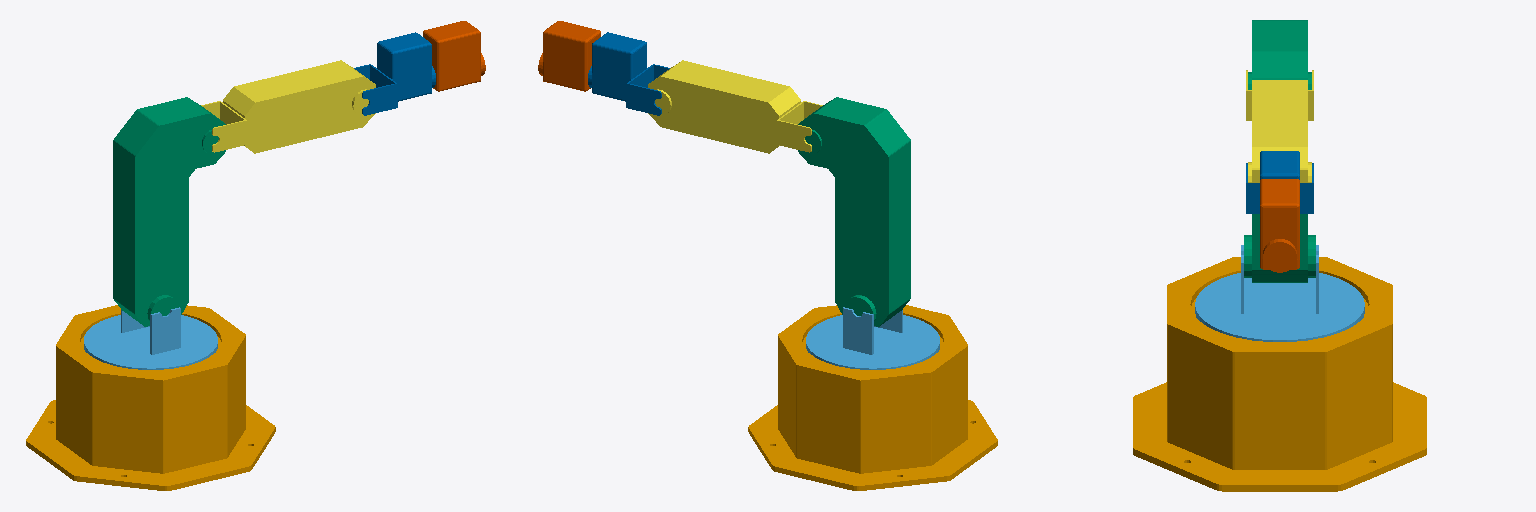
robot.urdf — widowx:
<?xml version="1.0" encoding="UTF-8"?>
<robot name="widowx">
  <!-- links -->
  <link name="arm_base_link">
     <visual>
        <origin xyz="0 0 0" rpy="0 0 0" />
        <geometry>
           <mesh filename="package://widowx_arm_description/meshes/base_link.stl"/>
        </geometry>
     </visual>
     <collision>
        <origin xyz="0 0 0" rpy="0 0 0" />
        <geometry>
           <mesh filename="package://widowx_arm_description/meshes/base_link.stl"/>
        </geometry>
     </collision>
     <inertial>
        <origin xyz="0 0 0" rpy="0 0 0" />
        <mass value="100" />
        <inertia ixx="1.0" ixy="0.0" ixz="0.0" iyy="1.0" iyz="0.0" izz="1.0" />
     </inertial>
  </link>
  <link name="shoulder_link">
     <visual>
        <origin xyz="0 0 0" rpy="0 0 0" />
        <geometry>
           <mesh filename="package://widowx_arm_description/meshes/shoulder_link.stl" />
        </geometry>
     </visual>
     <collision>
        <origin xyz="0 0 0" rpy="0 0 0" />
        <geometry>
           <mesh filename="package://widowx_arm_description/meshes/shoulder_link.stl"/>
        </geometry>
     </collision>
     <inertial>
        <origin xyz="0 0 0" rpy="0 0 0" />
        <mass value="1" />
        <inertia ixx="1.0" ixy="0.0" ixz="0.0" iyy="1.0" iyz="0.0" izz="1.0" />
     </inertial>
  </link>
  <link name="biceps_link">
     <visual>
        <origin xyz="0 0 0" rpy="0 0 0" />
        <geometry>
           <mesh filename="package://widowx_arm_description/meshes/biceps_link.new.stl" />
        </geometry>
     </visual>
     <collision>
        <origin xyz="0 0 0" rpy="0 0 0" />
        <geometry>
           <mesh filename="package://widowx_arm_description/meshes/biceps_link.new.stl" />
        </geometry>
     </collision>
     <inertial>
        <origin xyz="0 0 0" rpy="0 0 0" />
        <mass value="1" />
        <inertia ixx="1.0" ixy="0.0" ixz="0.0" iyy="1.0" iyz="0.0" izz="1.0" />
     </inertial>
  </link>
  <link name="forearm_link">
     <visual>
        <origin xyz="0 0 0" rpy="0 0 0" />
        <geometry>
           <mesh filename="package://widowx_arm_description/meshes/forearm_link.new.stl"/>
        </geometry>
     </visual>
     <collision>
        <origin xyz="0 0 0" rpy="0 0 0" />
        <geometry>
           <mesh filename="package://widowx_arm_description/meshes/forearm_link.new.stl"/>
        </geometry>
     </collision>
     <inertial>
        <origin xyz="0 0 0" rpy="0 0 0" />
        <mass value="1" />
        <inertia ixx="1.0" ixy="0.0" ixz="0.0" iyy="1.0" iyz="0.0" izz="1.0"/>
     </inertial>
  </link>
  <link name="wrist_1_link">
     <visual>
        <origin xyz="0 0 0" rpy="0 0 0" />
        <geometry>
           <mesh filename="package://widowx_arm_description/meshes/wrist_1_link.stl"/>
        </geometry>
     </visual>
     <collision>
        <origin xyz="0 0 0" rpy="0 0 0" />
        <geometry>
           <mesh filename="package://widowx_arm_description/meshes/wrist_1_link.stl"/>
        </geometry>
     </collision>
     <inertial>
        <origin xyz="0 0 0" rpy="0 0 0" />
        <mass value="1" />
        <inertia ixx="1.0" ixy="0.0" ixz="0.0" iyy="1.0" iyz="0.0" izz="1.0" />
     </inertial>
  </link>
  <link name="wrist_2_link">
     <visual>
        <origin xyz="0 0 0" rpy="0 0 0" />
        <geometry>
           <mesh filename="package://widowx_arm_description/meshes/wrist_2_link.new.stl"/>
        </geometry>
     </visual>
     <collision>
        <origin xyz="0 0 0" rpy="0 0 0" />
        <geometry>
           <mesh filename="package://widowx_arm_description/meshes/wrist_2_link.new.stl"/>
        </geometry>
     </collision>
     <inertial>
        <origin xyz="0 0 0" rpy="0 0 0" />
        <mass value="1" />
        <inertia ixx="1.0" ixy="0.0" ixz="0.0" iyy="1.0" iyz="0.0" izz="1.0" />
     </inertial>
  </link>
  <!--link name="gripper_rail_link">
     <visual>
        <origin xyz="0 0 0" rpy="0 0 1.57" />
        <geometry>
           <mesh filename="package://widowx_arm_description/meshes/gripper_rail_link.stl"/>
        </geometry>
     </visual>
     <collision>
        <origin xyz="0 0 0" rpy="0 0 0" />
        <geometry>
           <mesh filename="package://widowx_arm_description/meshes/gripper_rail_link.stl"/>
        </geometry>
     </collision>
     <inertial>
        <origin xyz="0 0 0" rpy="0 0 0" />
        <mass value="1" />
        <inertia ixx="1.0" ixy="0.0" ixz="0.0" iyy="1.0" iyz="0.0" izz="1.0" />
     </inertial>
  </link-->
  <!--link name="gripper_aux_link">
  </link-->
  <!--link name="gripper_1_link">
     <visual>
        <origin xyz="0 -0.0007 0" rpy="0 0 1.57" />
        <geometry>
           <mesh filename="package://widowx_arm_description/meshes/gripper_hand_fixed_link.stl"/>
        </geometry>
     </visual>
     <collision>
        <origin xyz="0 0 0" rpy="0 0 0" />
        <geometry>
           <mesh filename="package://widowx_arm_description/meshes/gripper_hand_fixed_link.stl"/>
        </geometry>
     </collision>
     <inertial>
        <origin xyz="0 0 0" rpy="0 0 0" />
        <mass value="1" />
        <inertia ixx="1.0" ixy="0.0" ixz="0.0" iyy="1.0" iyz="0.0" izz="1.0" />
     </inertial>
  </link>
  <link name="gripper_2_link">
     <visual>
        <origin xyz="0 0.0007 0" rpy="0 0 -1.57" />
        <geometry>
           <mesh filename="package://widowx_arm_description/meshes/gripper_hand_fixed_link.stl"/>
        </geometry>
     </visual>
     <collision>
        <origin xyz="0 0 0" rpy="0 0 0" />
        <geometry>
           <mesh filename="package://widowx_arm_description/meshes/gripper_hand_fixed_link.stl"/>
        </geometry>
     </collision>
     <inertial>
        <origin xyz="0 0 0" rpy="0 0 0" />
        <mass value="1" />
        <inertia ixx="1.0" ixy="0.0" ixz="0.0" iyy="1.0" iyz="0.0" izz="1.0" />
     </inertial>
  </link-->
  <!-- joints -->
  <!--joint name="arm_base_joint" type="fixed">
     <parent link="origin" />
     <child link="arm_base_link"/>
  </joint -->
  <joint name="joint_1" type="revolute">
     <origin xyz="0 0 0.125" rpy="0 0 0" />
     <parent link="arm_base_link" />
     <child link="shoulder_link" />
     <axis xyz="0 0 1" />
     <limit lower="-2.617" upper="2.617" effort="6" velocity="0.785" />
  </joint>
  <joint name="joint_2" type="revolute">
     <!--origin xyz="0.04825 0 0.14203" rpy="0 0 0" /-->
     <origin xyz="0 0 0" rpy="0 0 0" />
     <parent link="shoulder_link" />
     <child link="biceps_link" />
     <axis xyz="0 1 0" />
     <limit lower="-1.571" upper="1.571" effort="6" velocity="1.571" />
  </joint>
  <joint name="joint_3" type="revolute">
     <origin xyz="0.04825 0 0.14203" rpy="0 1.570795 0" />
     <parent link="biceps_link" />
     <child link="forearm_link" />
     <axis xyz="0 1 0" />
     <limit lower="-1.571" upper="1.571" effort="6" velocity="1.571" />
  </joint>
  <joint name="joint_4" type="revolute">
     <origin xyz="0 0 0.14203" rpy="0 0 0" />
     <parent link="forearm_link" />
     <child link="wrist_1_link" />
     <axis xyz="0 1 0" />
     <limit lower="-1.745" upper="1.745" effort="6" velocity="1.571" />
  </joint>
  <joint name="joint_5" type="revolute">
     <origin xyz="0 0 0.0715" rpy="0 0 0" />
     <parent link="wrist_1_link" />
     <child link="wrist_2_link" />
     <axis xyz="0 0 1" />
     <limit lower="-2.617" upper="2.617" effort="6" velocity="1.571" />
  </joint>
  <!--joint name="joint_6" type="fixed">
     <origin xyz = "0 0 0.043" rpy="0 0 0" />
     <parent link="wrist_2_link" />
     <child link="gripper_rail_link" />
     <axis xyz="0 0 1" />
     <limit lower="-0.31" upper="0.1" effort="6" velocity="0.5" />
  </joint-->
  <!--joint name="gripper_revolute_joint" type="revolute">
     <origin xyz = "0 0 0.065" rpy="0 0 0" />
     <parent link="wrist_2_link" />
     <child link="gripper_aux_link" />
     <axis xyz="0 0 1" />
     <limit lower="-2.6" upper="2.6" effort="6" velocity="0.5" />
  </joint-->
  <!--joint name="gripper_prismatic_joint_1" type="prismatic">
     <origin xyz="0 0 0" rpy="0 0 0" />
     <parent link="gripper_rail_link" />
     <child link="gripper_1_link" />
     <axis xyz="0 -1 0" />
     <limit lower="0" upper="0.027" effort="6" velocity="0.5" />
  </joint>
  <joint name="gripper_prismatic_joint_2" type="prismatic">
     <origin xyz="0 0 0" rpy="0 0 0" />
     <parent link="gripper_rail_link" />
     <child link="gripper_2_link" />
     <mimic joint="gripper_prismatic_joint_1" />
     <axis xyz="0 1 0" />
     <limit lower="0" upper="0.027" effort="6" velocity="0.5" />
  </joint-->

  <!--link name="gripper_link"/>
    <joint name="gripper_link_joint" type="revolute">
      <origin xyz="0 0 0.110" rpy="0 0 0"/>
      <parent link="package://widowx_arm_description/meshes/wrist_1_link" />
      <child link="gripper_link"/>
      <limit effort="6" velocity="1" lower="-3.14" upper="3.14"/>
      <axis xyz="1 0 0"/>
    </joint-->

  <transmission name="tran1">
    <type>transmission_interface/SimpleTransmission</type>
    <joint name="joint_1"/>
    <actuator name="motor1">
      <hardwareInterface>EffortJointInterface</hardwareInterface>
      <mechanicalReduction>1</mechanicalReduction>
    </actuator>
  </transmission>

 <transmission name="tran2">
    <type>transmission_interface/SimpleTransmission</type>
    <joint name="joint_2"/>
    <actuator name="motor2">
      <hardwareInterface>EffortJointInterface</hardwareInterface>
      <mechanicalReduction>1</mechanicalReduction>
    </actuator>
  </transmission>

 <transmission name="tran3">
    <type>transmission_interface/SimpleTransmission</type>
    <joint name="joint_3"/>
    <actuator name="motor3">
      <hardwareInterface>EffortJointInterface</hardwareInterface>
      <mechanicalReduction>1</mechanicalReduction>
    </actuator>
  </transmission>

 <transmission name="tran4">
    <type>transmission_interface/SimpleTransmission</type>
    <joint name="joint_4"/>
    <actuator name="motor4">
      <hardwareInterface>EffortJointInterface</hardwareInterface>
      <mechanicalReduction>1</mechanicalReduction>
    </actuator>
  </transmission>

 <transmission name="tran5">
    <type>transmission_interface/SimpleTransmission</type>
    <joint name="joint_6"/>
    <actuator name="motor5">
      <hardwareInterface>EffortJointInterface</hardwareInterface>
      <mechanicalReduction>1</mechanicalReduction>
    </actuator>
  </transmission>

 <transmission name="tran6">
    <type>transmission_interface/SimpleTransmission</type>
    <joint name="gripper_prismatic_joint_1"/>
    <actuator name="motor6">
      <hardwareInterface>EffortJointInterface</hardwareInterface>
      <mechanicalReduction>1</mechanicalReduction>
    </actuator>
  </transmission>

</robot>

--- What the picture shows (computed from the rendered views, not written in the file) ---
3 views of the same robot in one strip: view 1: azimuth 30°, elevation 25°; view 2: azimuth 150°, elevation 25°; view 3: azimuth 270°, elevation 25° (orthographic).
Model widowx with 6 links and 5 joints (5 revolute), rooted at arm_base_link, posed all joints at 0.
Links seen in each view (by area): view 1: arm_base_link, biceps_link, forearm_link, shoulder_link, wrist_1_link, wrist_2_link; view 2: arm_base_link, biceps_link, forearm_link, shoulder_link, wrist_1_link, wrist_2_link; view 3: arm_base_link, shoulder_link, biceps_link, forearm_link, wrist_2_link, wrist_1_link.
Boxes of the visible links, x1,y1,x2,y2 form: arm_base_link: (26, 305, 275, 490); biceps_link: (113, 97, 225, 326); forearm_link: (201, 60, 375, 153); shoulder_link: (84, 307, 217, 369); wrist_1_link: (354, 32, 435, 115); wrist_2_link: (423, 21, 485, 91); arm_base_link: (748, 305, 997, 490); biceps_link: (798, 97, 910, 326); forearm_link: (648, 60, 822, 153); shoulder_link: (806, 307, 939, 369); wrist_1_link: (588, 32, 669, 115); wrist_2_link: (538, 21, 600, 91); arm_base_link: (1133, 257, 1426, 491); shoulder_link: (1195, 245, 1364, 341); biceps_link: (1244, 20, 1315, 282); forearm_link: (1246, 70, 1313, 182); wrist_2_link: (1260, 179, 1299, 272); wrist_1_link: (1246, 151, 1313, 213).
Bounding box of the posed robot: 0.4051 × 0.1907 × 0.3023 m (x, y, z).
Meshes: 6 distinct files referenced, 6 mesh visuals loaded (6 binary STL).
